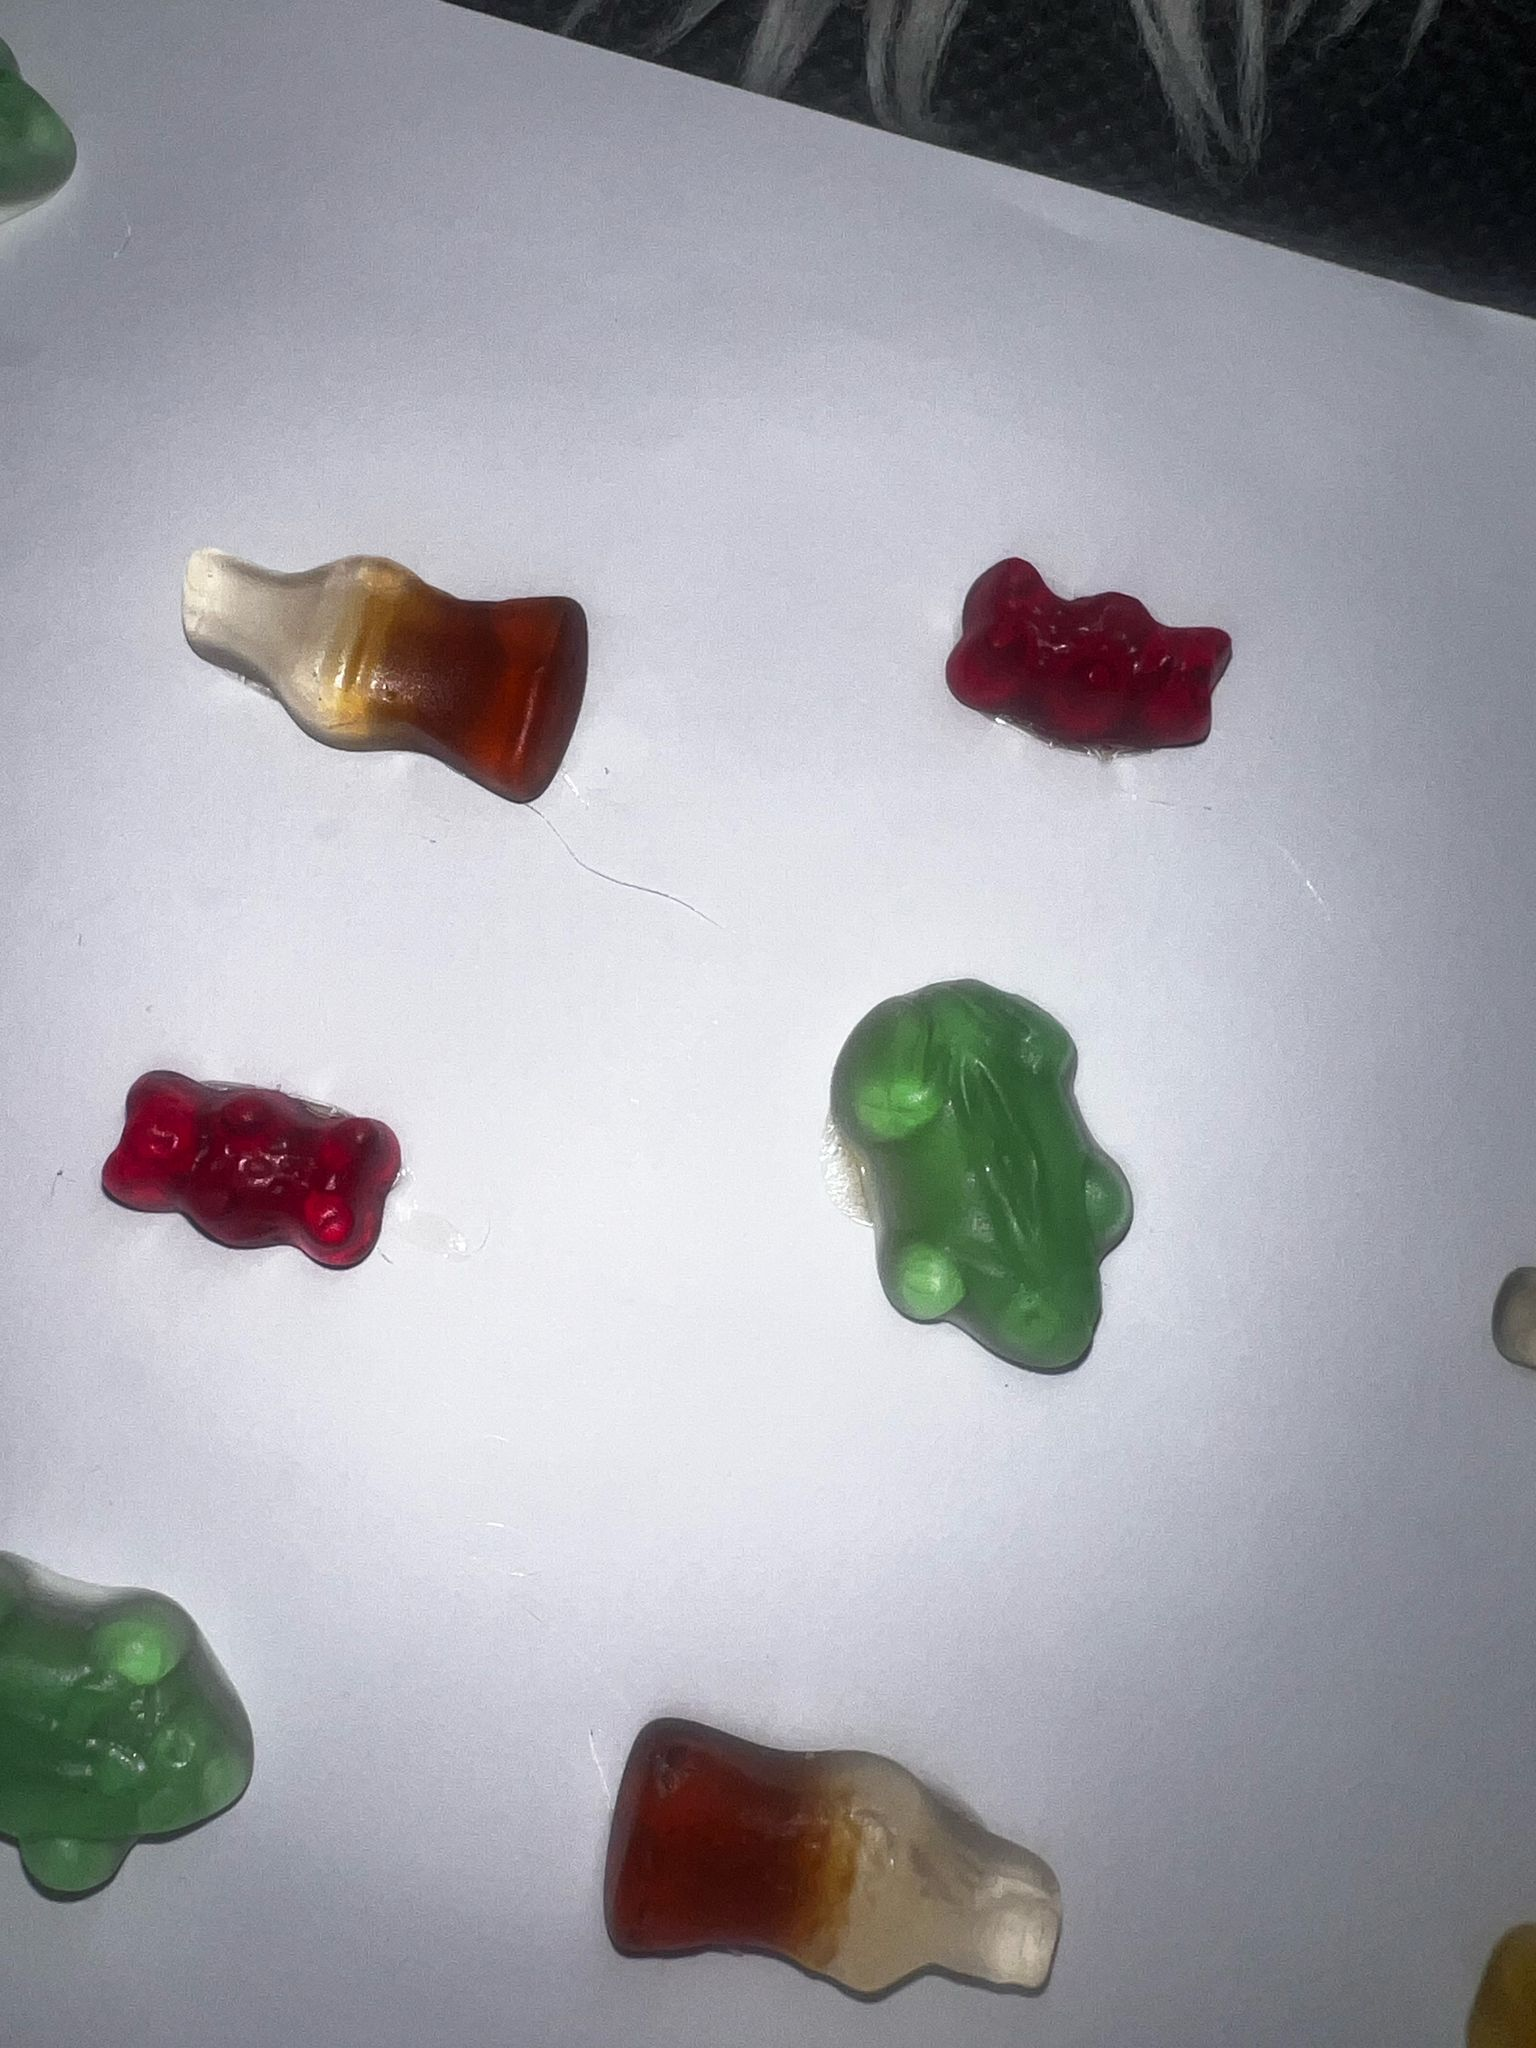cola: (566, 1709, 1075, 2021), (168, 531, 607, 821)
frog: (821, 969, 1144, 1390)
gummybear: (86, 1059, 424, 1276), (944, 542, 1242, 763)
